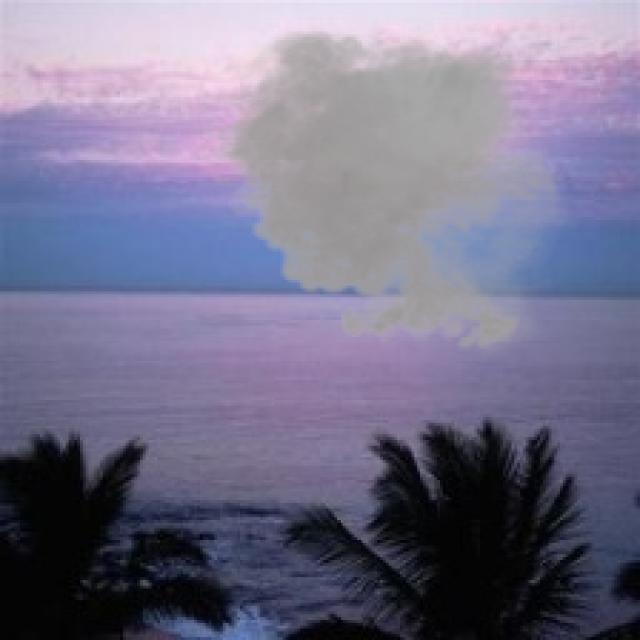smoke: (203, 17, 580, 360)
